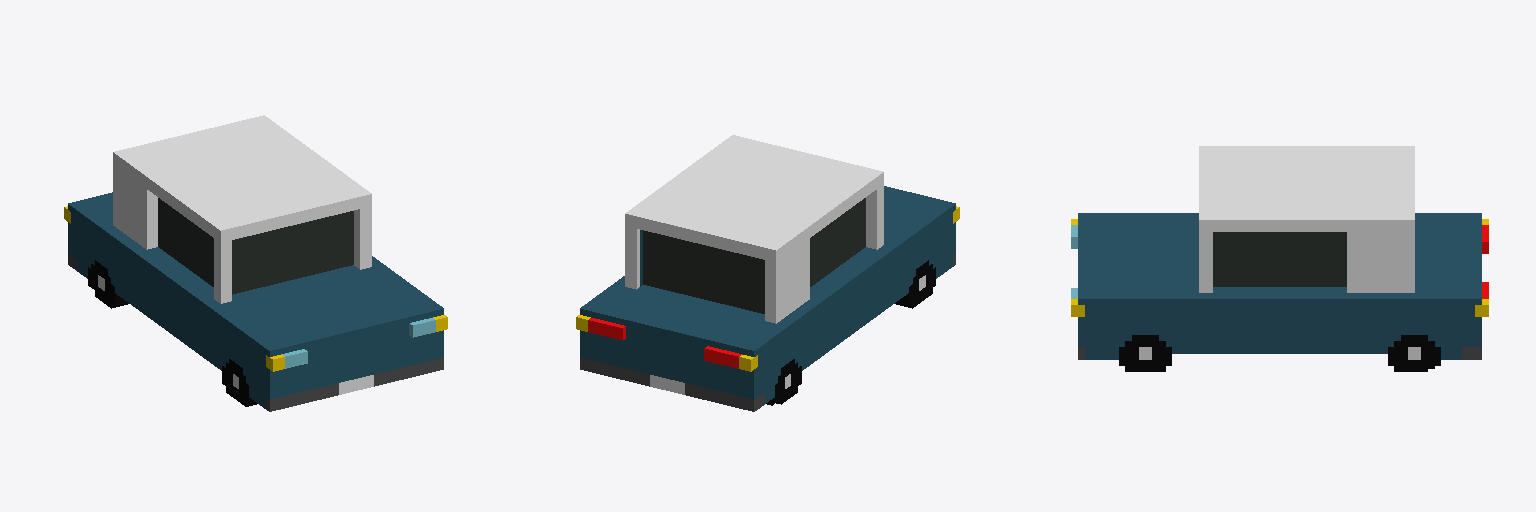
3 views of the same model, side by side, from view 1: azimuth 30°, elevation 25°; view 2: azimuth 150°, elevation 25°; view 3: azimuth 270°, elevation 25° (orthographic).
Size of the model in its own units: 30 by 24 by 62.
Materials: 1 (1 with a texture image).